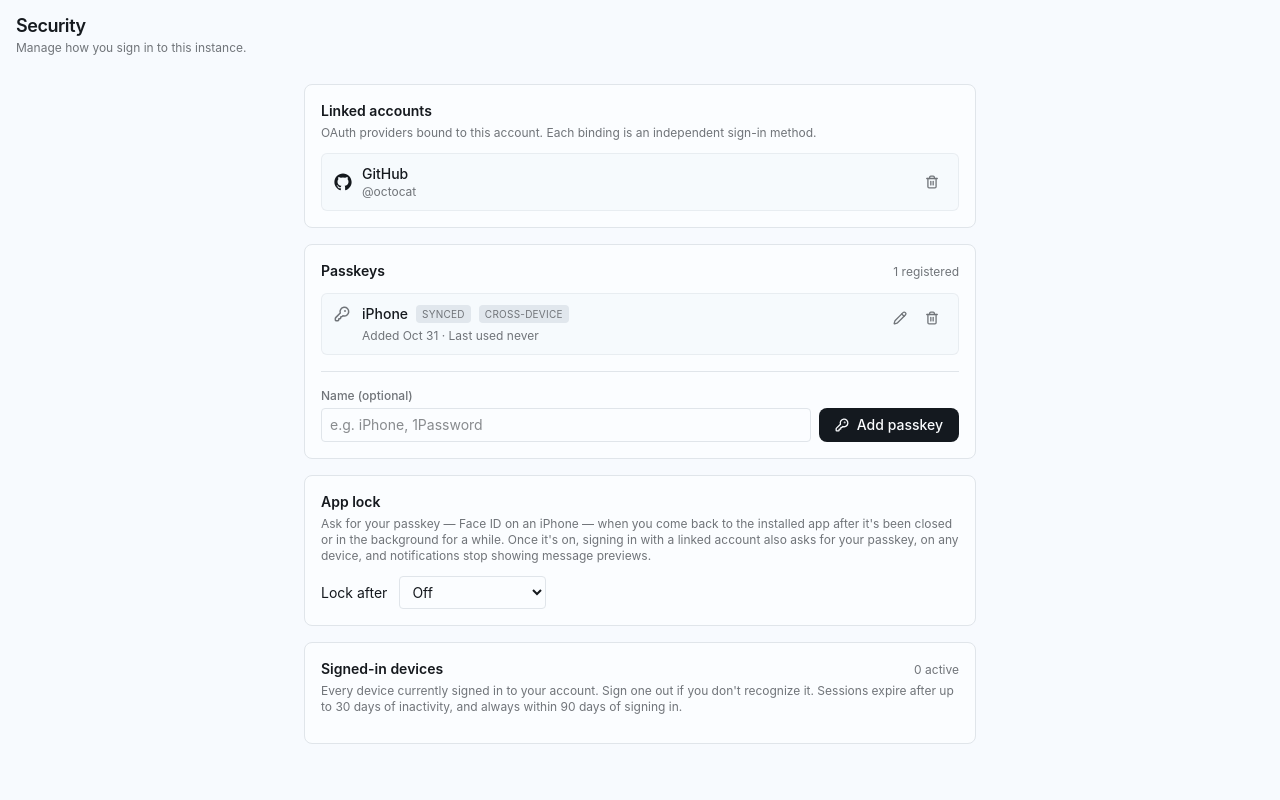
Test: Security settings page — delete flow › opens ConfirmDialog with the passkey name when delete is clicked
What coordinates should you click on to do the following:
click the button named "Delete passkey"
I would click on:
 (932, 318)
Its box is [918,304,946,332].
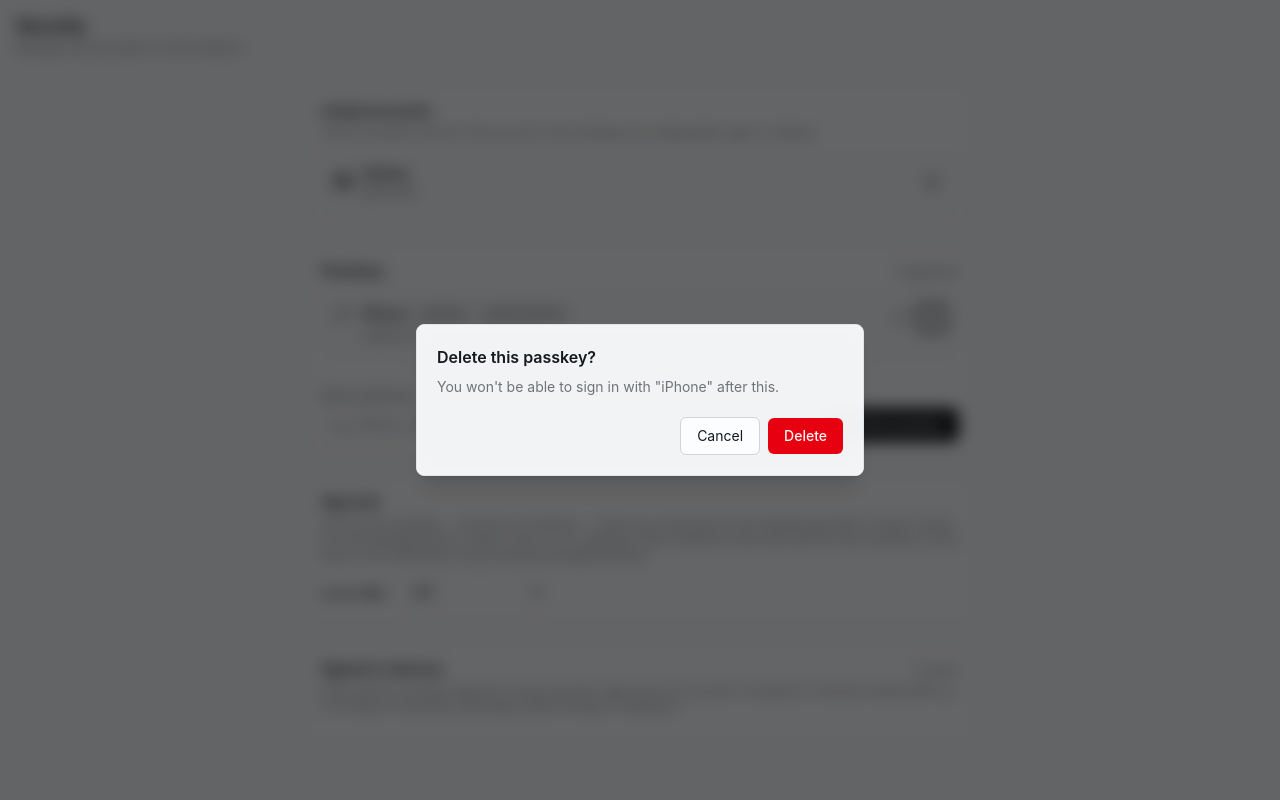
expect the heading "Delete this passkey?" is shown: met, box [437,347,596,367]
expect the text "You won't be able to sign in with \"iPhone\" after this." is shown: met, box [437,378,779,395]
expect the button "Delete" is shown: met, box [768,418,843,454]
